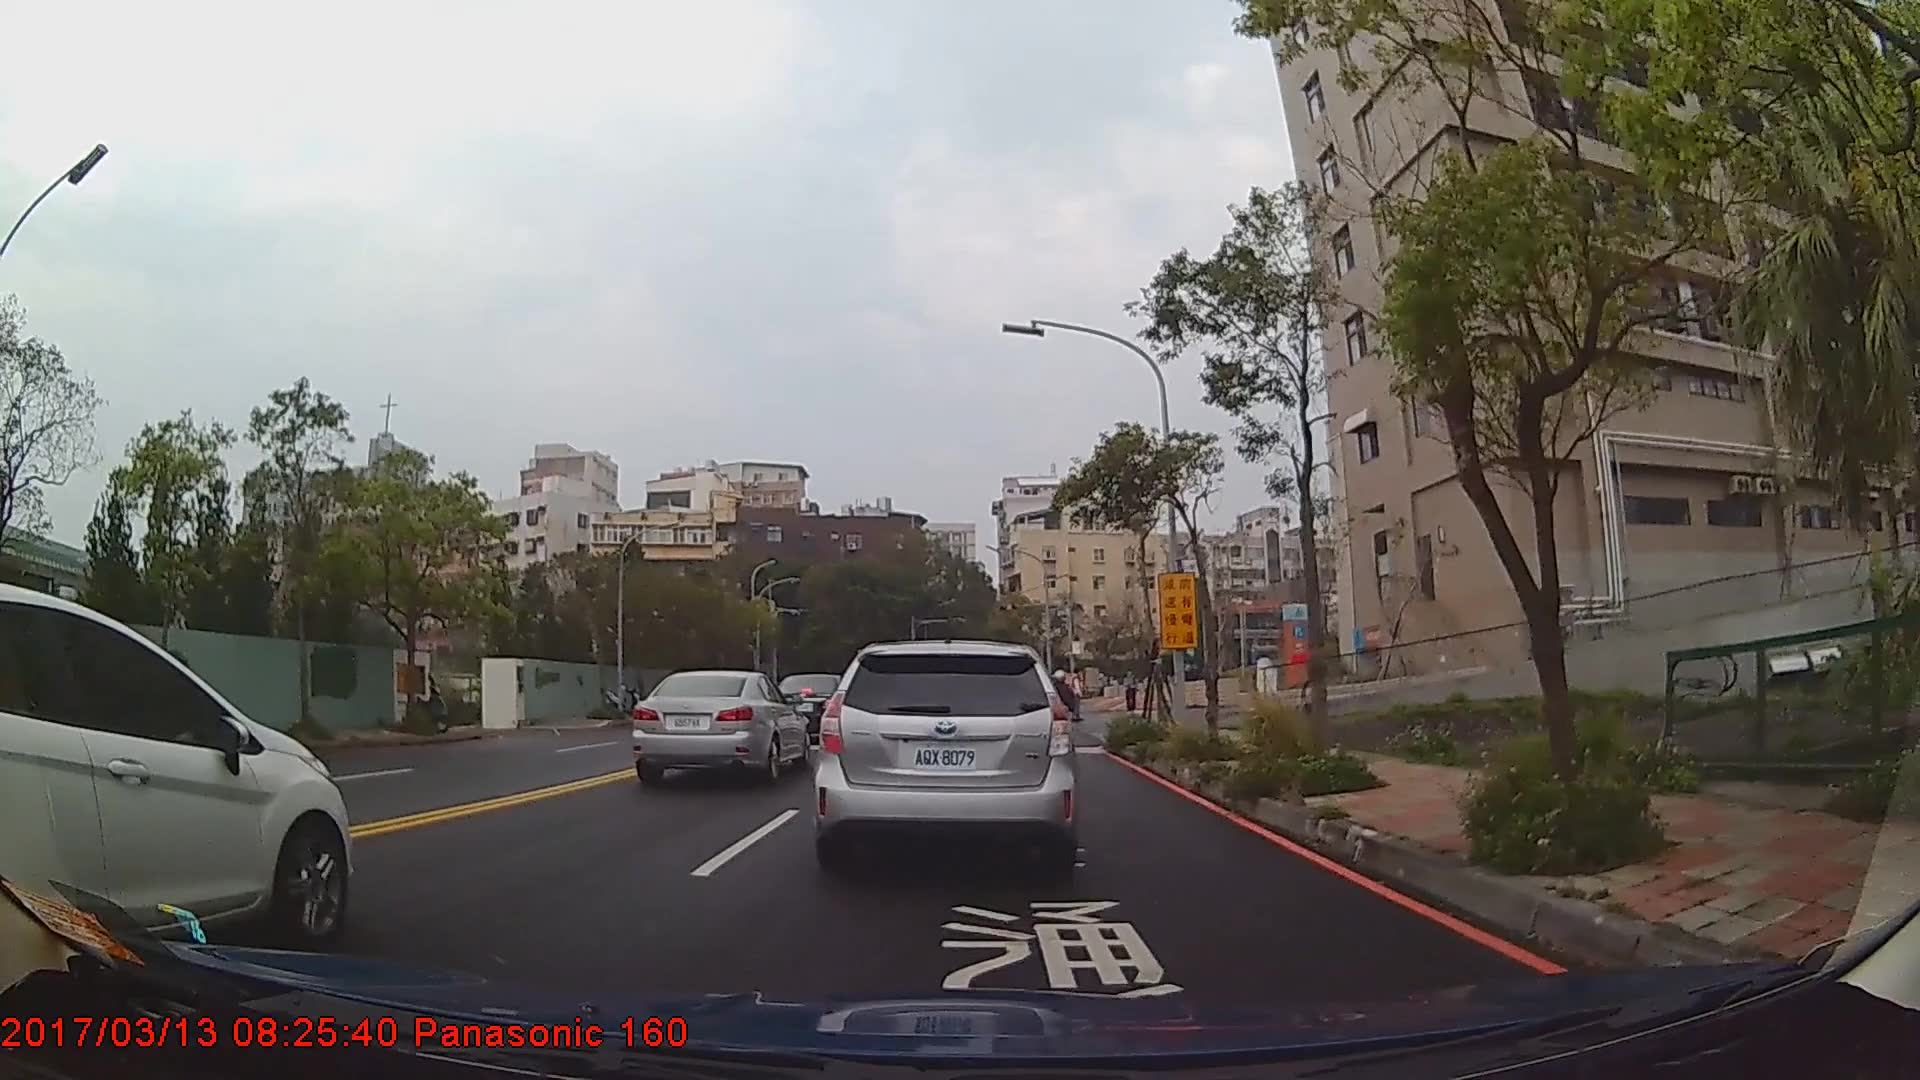vehicle: (0, 578, 352, 953), (815, 640, 1077, 872), (632, 671, 812, 786), (774, 673, 858, 738)
